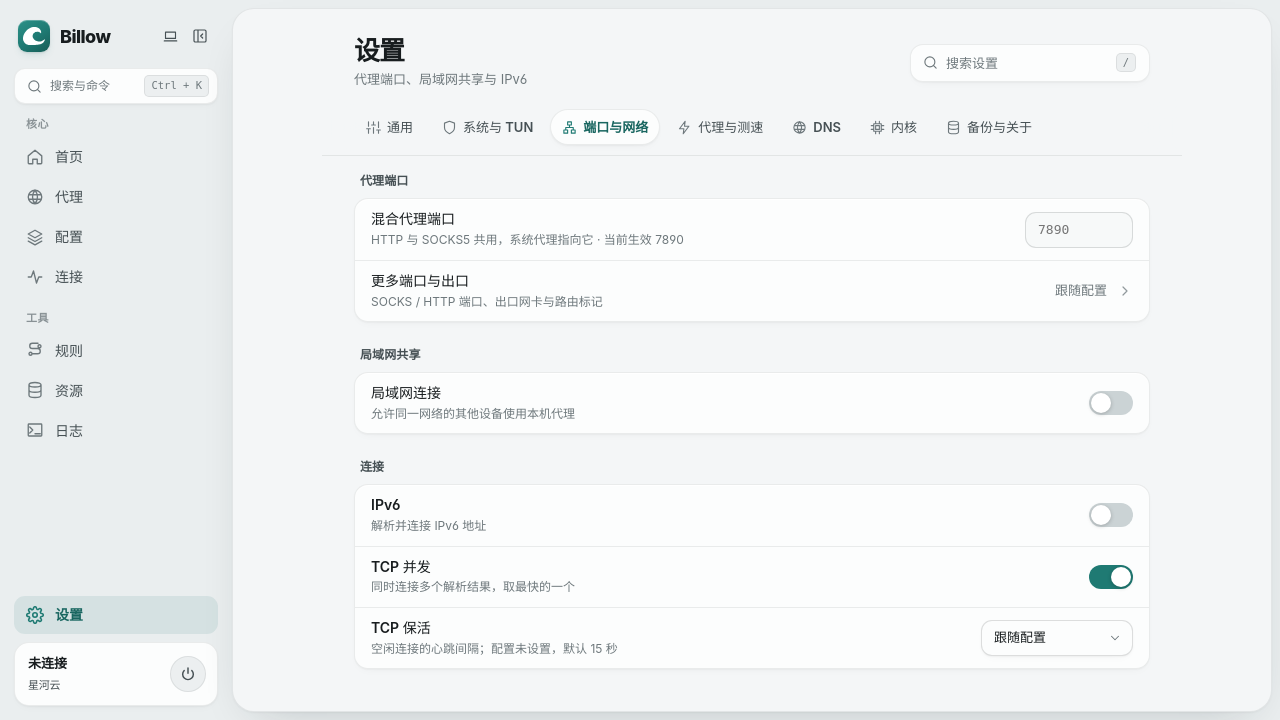
Test case: LAN sharing › R23: refreshing LAN address picks up newly enabled hotspot IP
Click the switch named "局域网连接": (1111, 403) [1089,391,1133,415]
Wait 400 ms
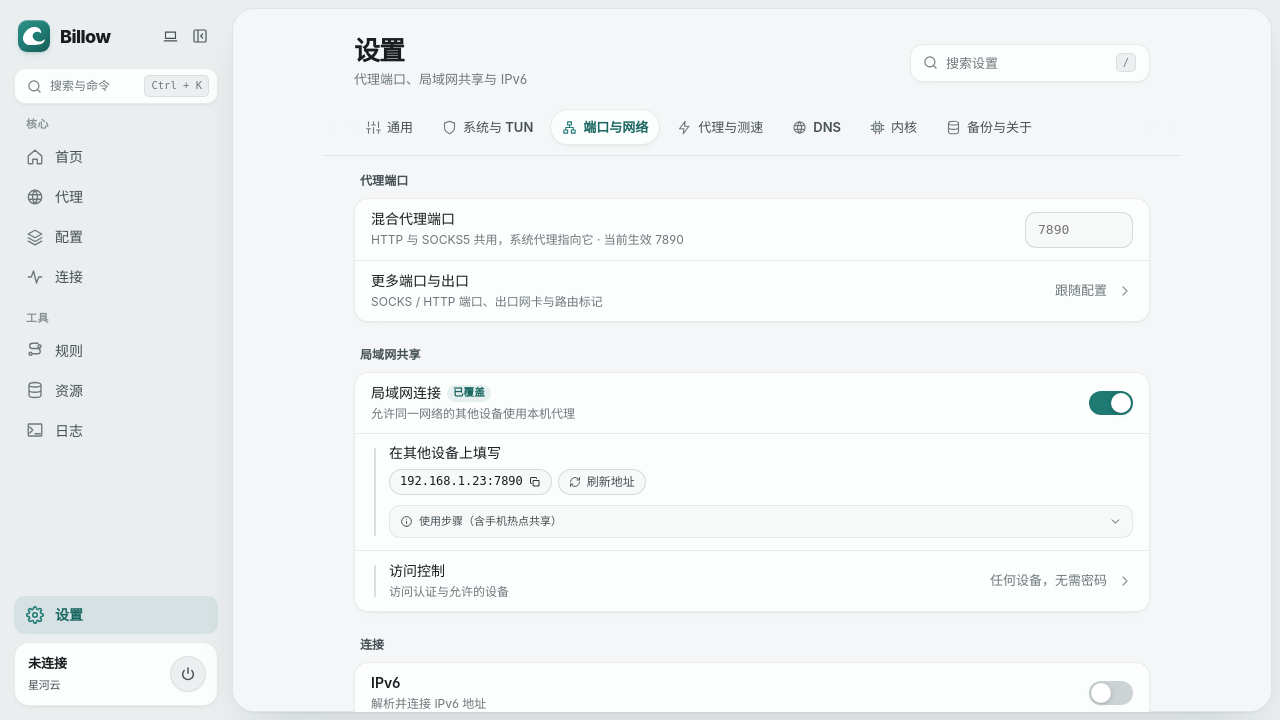
Check: the button with test id "lan-address" reads "192.168.1.23:7890", box [389,469,552,495]
Click the button with test id "lan-refresh": (602, 482) [558,469,646,495]
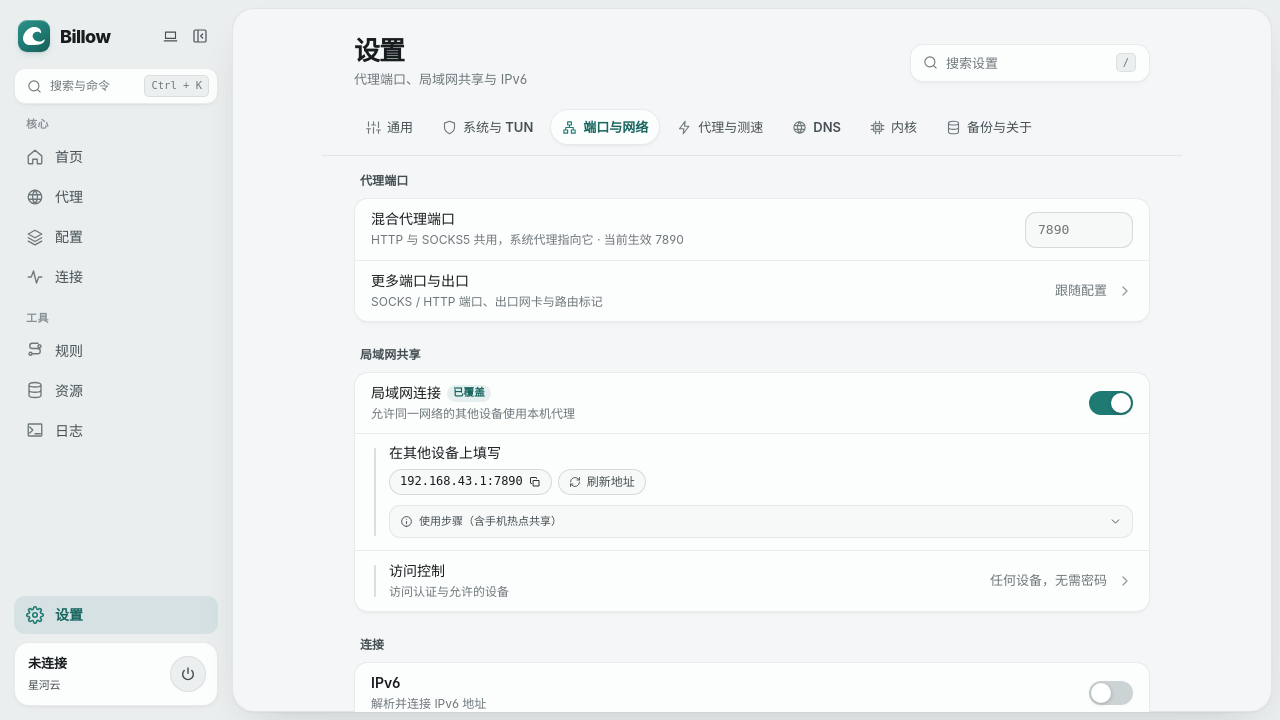
Check: the button with test id "lan-address" reads "192.168.43.1:7890", box [389,469,552,495]
